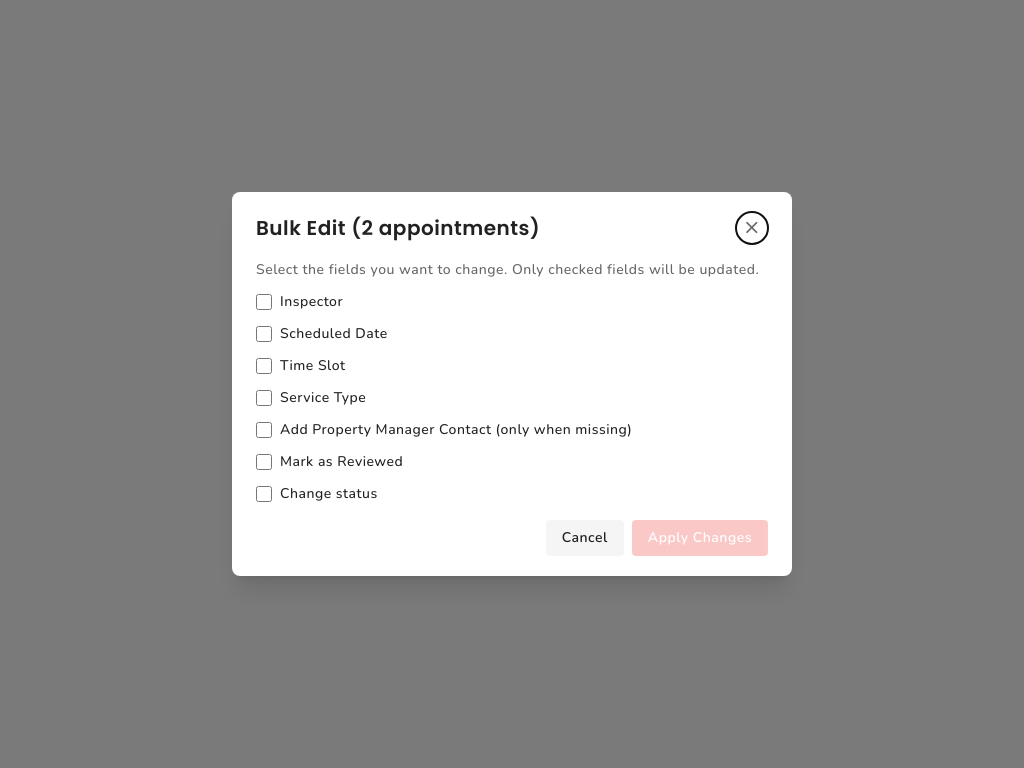
Test: BulkEditModal › Change status › tells the operator when the selection has no transition in common
This screenshot has width=1024, height=768.
Click the checkbox labelled "Change status": (264, 494) [256,486,272,502]
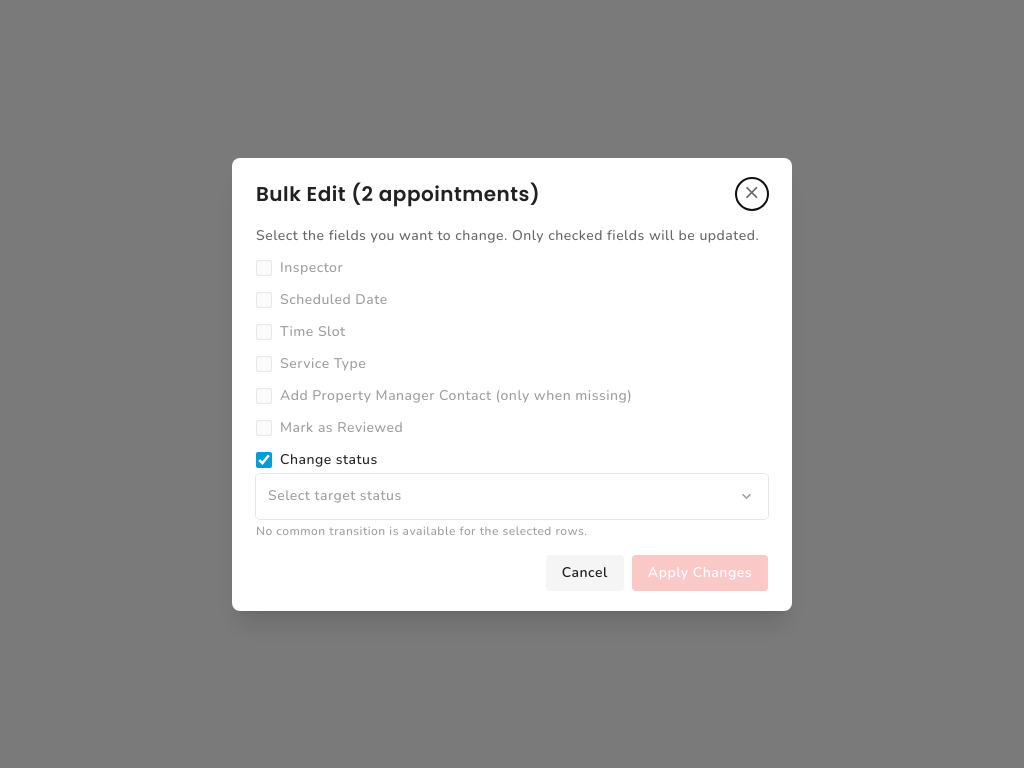
Expected: the text "No common transition is available for the selected rows." is shown, [256,522,588,538]
